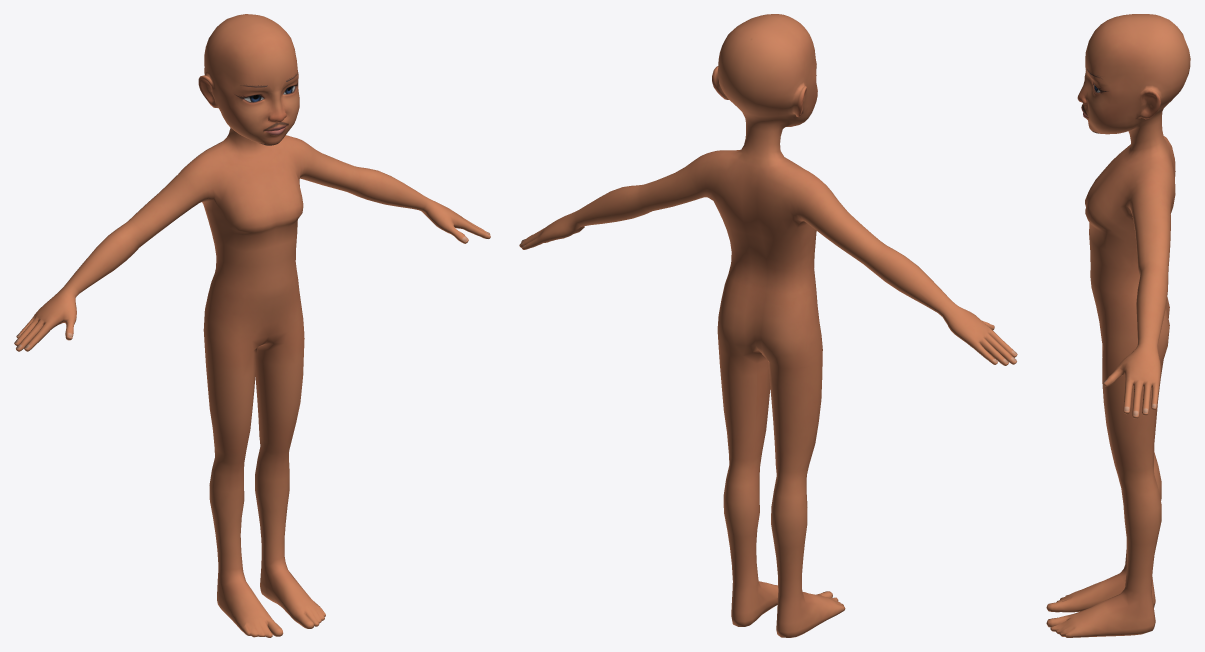
File: frame_0039.glb
3 views of the same model, side by side, from view 1: azimuth 30°, elevation 25°; view 2: azimuth 150°, elevation 25°; view 3: azimuth 270°, elevation 25° (orthographic). The views are drawn at different scales.
Visible parts, largest first — view 1: frame_0039_head_geo; view 2: frame_0039_head_geo; view 3: frame_0039_head_geo.
Boxes of the visible parts, x1,y1,x2,y2 form: frame_0039_head_geo: (14, 14, 490, 637); frame_0039_head_geo: (519, 14, 1017, 637); frame_0039_head_geo: (1046, 14, 1190, 637).
Bounding box in the file's own units: 1.28 × 1.5 × 0.3253.
3 materials, 3 textured.
